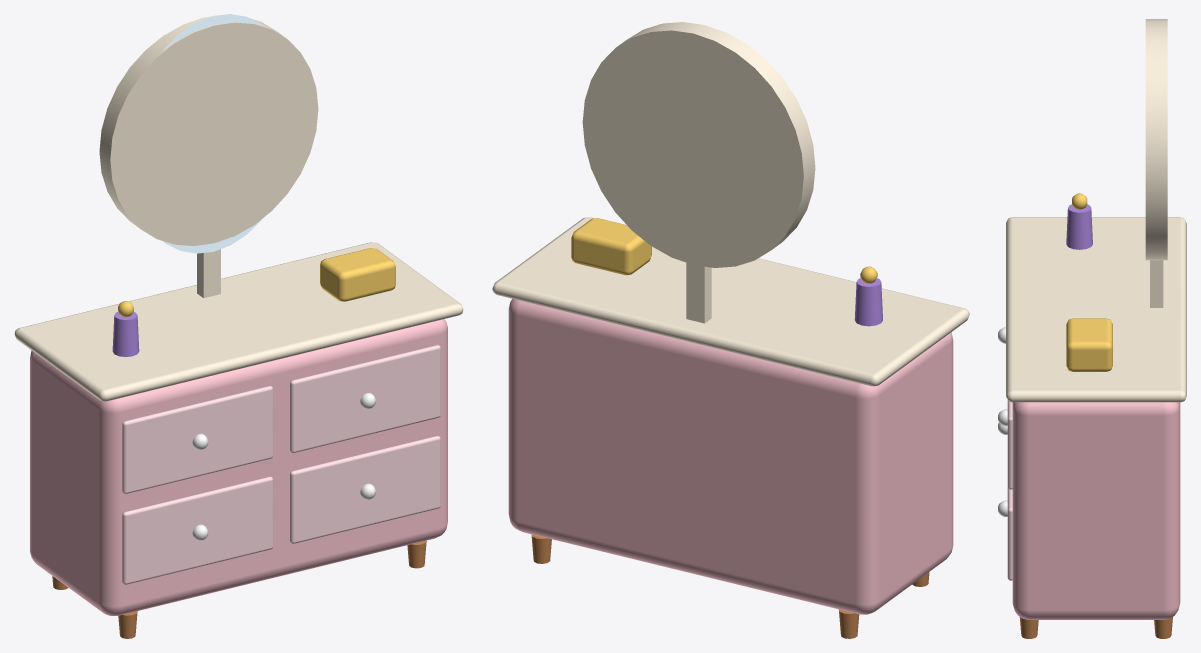
The model's file is closet-dresser.glb.
3 views of the same model, side by side, from view 1: azimuth 30°, elevation 25°; view 2: azimuth 150°, elevation 25°; view 3: azimuth 270°, elevation 25° (orthographic). The views are drawn at different scales.
Size of the model in its own units: 1.26 by 1.79 by 0.5632.
